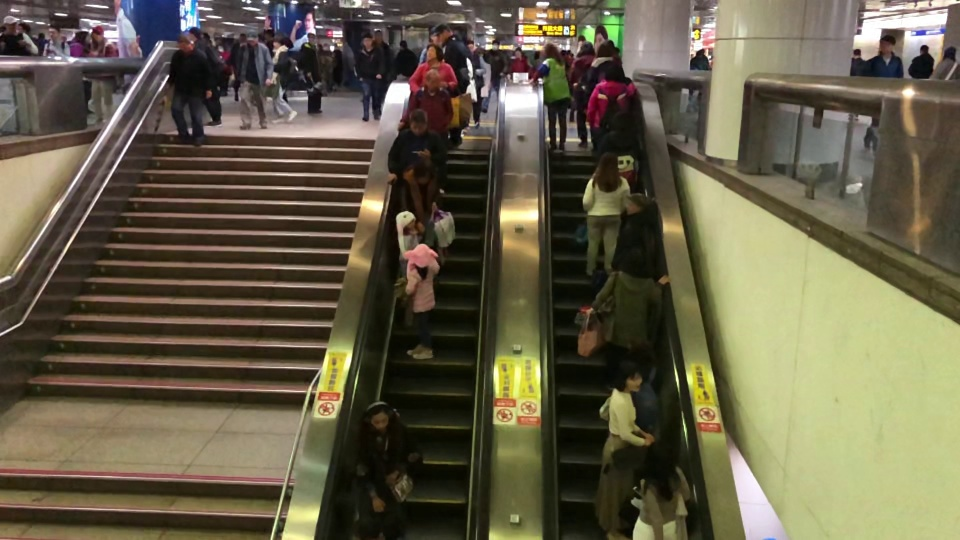person_head: (646, 443, 675, 476), (620, 249, 652, 278), (617, 362, 642, 390), (629, 339, 655, 365), (407, 107, 428, 135), (370, 403, 391, 431), (413, 156, 432, 183), (597, 150, 619, 173), (625, 192, 647, 214), (602, 63, 623, 83), (610, 112, 629, 131), (425, 68, 440, 90), (879, 34, 897, 52), (425, 42, 444, 59), (175, 34, 192, 52), (597, 39, 614, 56), (414, 250, 429, 268), (437, 24, 452, 41), (579, 39, 594, 54), (542, 42, 556, 57), (48, 24, 60, 41), (92, 25, 103, 42), (943, 45, 956, 59), (246, 31, 259, 44), (5, 17, 17, 31), (273, 33, 284, 47), (362, 32, 372, 47), (404, 217, 416, 229), (77, 31, 90, 42), (307, 29, 316, 44), (190, 27, 200, 40), (919, 43, 929, 54), (374, 30, 383, 42), (491, 38, 500, 49), (399, 39, 406, 49), (514, 46, 521, 56), (853, 47, 860, 57), (696, 47, 703, 54)
person_vbox: (590, 361, 655, 540), (591, 249, 671, 390), (355, 403, 423, 539), (397, 68, 453, 195), (580, 150, 631, 277), (628, 443, 690, 540), (165, 34, 213, 148), (863, 34, 904, 156), (386, 107, 448, 186), (529, 41, 571, 155), (437, 24, 474, 149), (609, 191, 662, 275), (402, 250, 441, 359), (235, 31, 273, 129), (188, 27, 225, 127), (585, 63, 636, 132), (597, 112, 643, 185), (85, 25, 118, 122), (628, 339, 663, 428), (355, 32, 387, 122), (399, 156, 440, 223), (569, 39, 594, 147), (407, 42, 457, 93), (271, 32, 297, 125), (479, 37, 510, 110), (68, 31, 94, 114), (299, 29, 322, 116), (587, 39, 623, 87), (0, 16, 39, 55), (688, 46, 710, 99), (848, 46, 863, 121), (42, 22, 71, 56), (907, 44, 934, 78), (394, 38, 418, 76), (934, 45, 960, 80), (396, 215, 418, 255), (509, 45, 527, 71)
